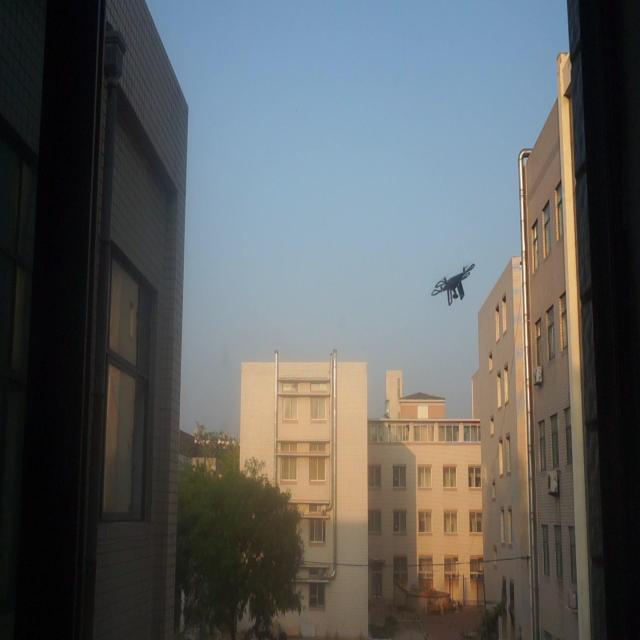drone: (428, 257, 478, 312)
